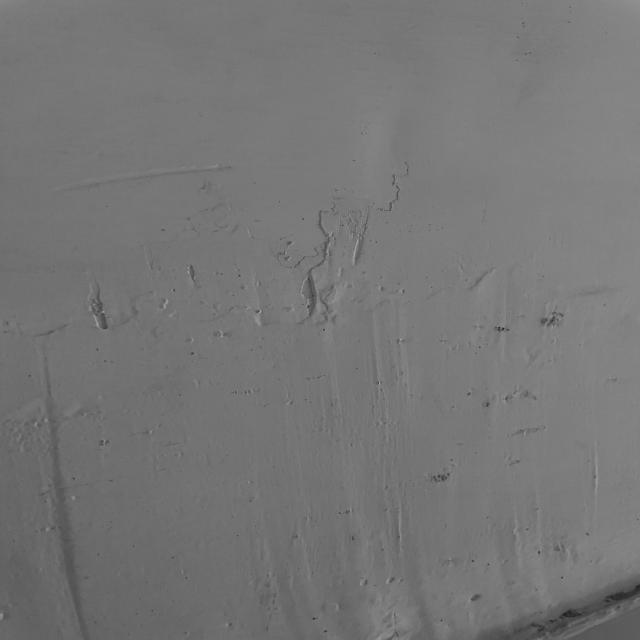rough and patchy surface: (14, 149, 640, 640)
